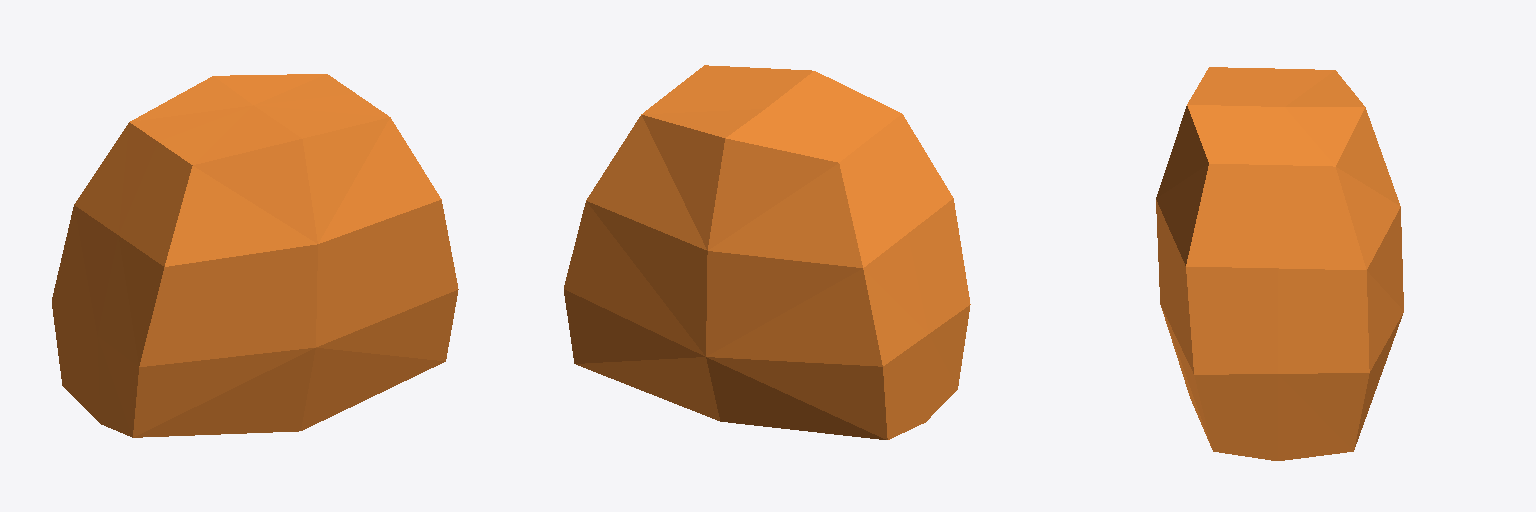
The model's file is pelvis.obj.
3 views of the same model, side by side, from view 1: azimuth 30°, elevation 25°; view 2: azimuth 150°, elevation 25°; view 3: azimuth 270°, elevation 25° (orthographic).
Visible parts, largest first — view 1: Pelvis.001_Cube.009; view 2: Pelvis.001_Cube.009; view 3: Pelvis.001_Cube.009.
Part boxes in pixels (x1,y1,x2,y2): Pelvis.001_Cube.009: (52,74,458,437); Pelvis.001_Cube.009: (564,65,970,439); Pelvis.001_Cube.009: (1156,67,1403,460).
Size of the model in its own units: 0.6221 by 0.5633 by 0.4186.